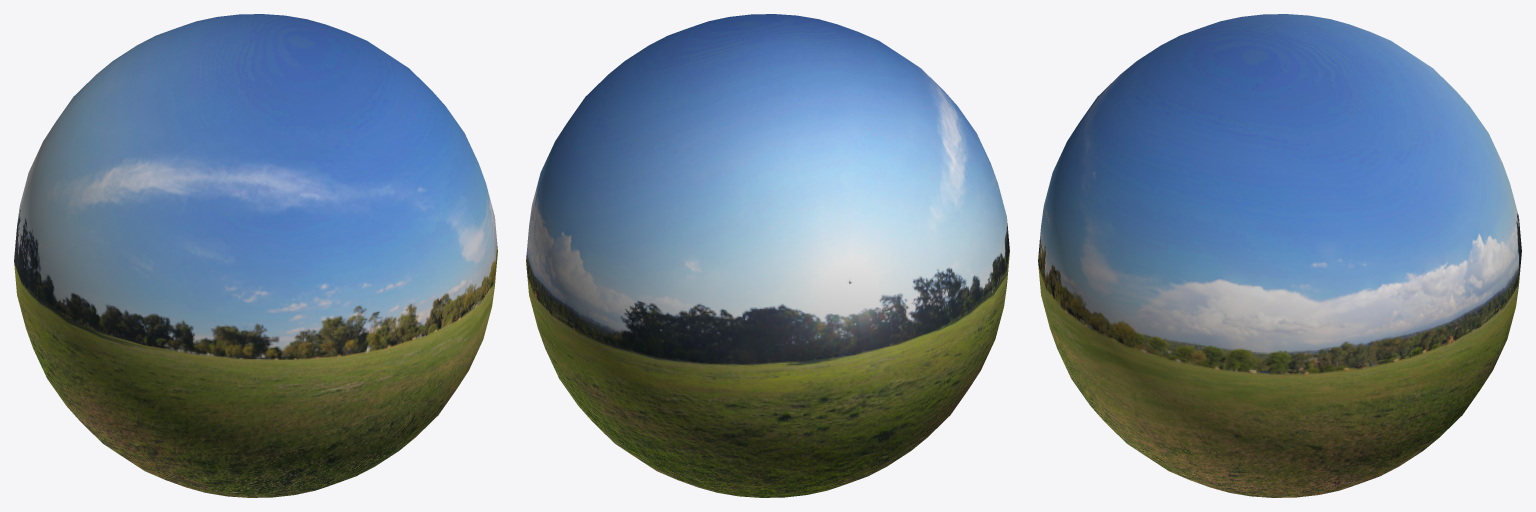
3 views of the same model, side by side, from view 1: azimuth 30°, elevation 25°; view 2: azimuth 150°, elevation 25°; view 3: azimuth 270°, elevation 25° (orthographic).
Visible parts, largest first — view 1: BG1; view 2: BG1; view 3: BG1.
Boxes of the visible parts, bbox=[...] form: BG1: bbox=[14, 14, 497, 497]; BG1: bbox=[526, 14, 1009, 497]; BG1: bbox=[1038, 14, 1521, 497].
Size of the model in its own units: 321 by 322 by 322.
4 materials, 4 textured.
